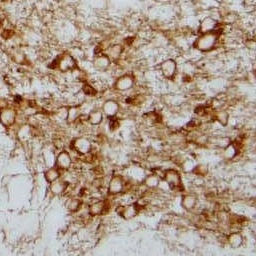neuron: (189, 28, 224, 54), (46, 49, 80, 71), (193, 13, 225, 36), (158, 164, 184, 189), (115, 200, 145, 221), (154, 58, 180, 82), (113, 69, 138, 93), (221, 138, 246, 162), (86, 194, 111, 218), (68, 132, 94, 155), (89, 48, 111, 73), (52, 147, 74, 171), (98, 97, 122, 118), (1, 103, 20, 129), (107, 174, 127, 196), (42, 164, 62, 185)
